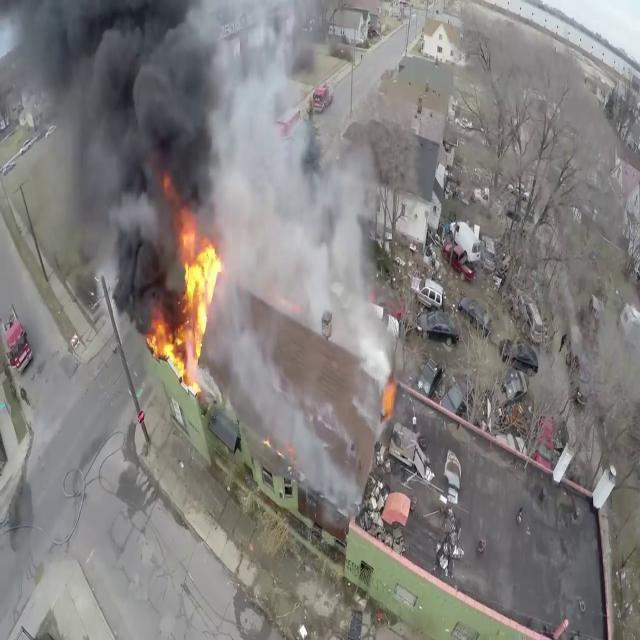Fire: (154, 211, 226, 379), (145, 310, 184, 374), (380, 372, 400, 423)
Smoke: (18, 0, 255, 331), (214, 0, 390, 382)
